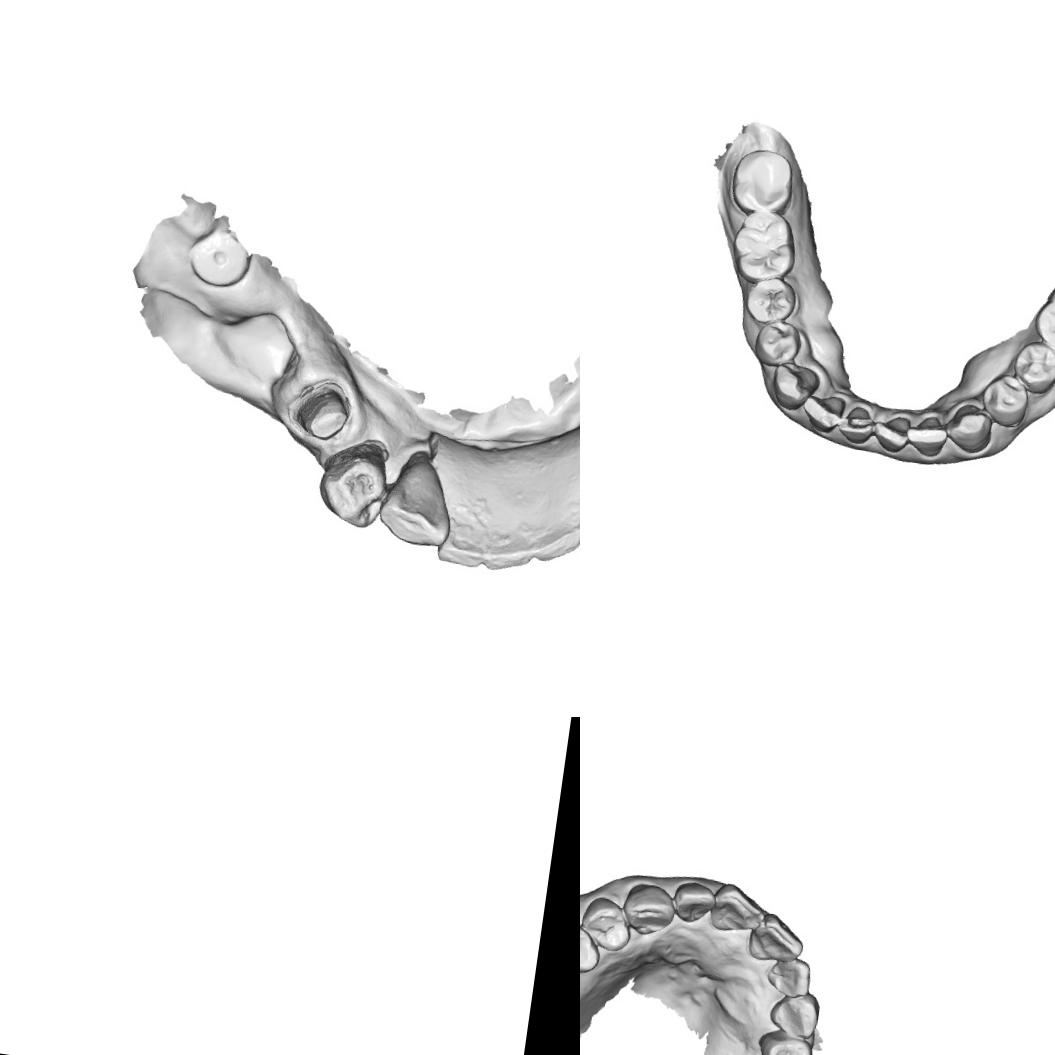canine: (372, 456, 461, 552), (619, 880, 679, 939), (940, 399, 996, 456), (768, 358, 823, 414), (766, 986, 822, 1041)
crown: (298, 376, 354, 446)
implant: (184, 224, 255, 294)
incisor: (708, 880, 770, 938), (746, 910, 808, 967), (476, 530, 541, 580), (435, 528, 497, 576), (528, 520, 580, 572), (670, 878, 720, 927), (764, 952, 814, 1000), (902, 411, 950, 460), (798, 390, 846, 436), (834, 403, 877, 447), (870, 411, 912, 456)
molar: (727, 208, 802, 289), (727, 146, 799, 218), (1029, 274, 1055, 365)
premolar: (310, 439, 392, 534), (976, 370, 1032, 431), (580, 894, 636, 954), (742, 273, 799, 328), (1009, 337, 1055, 397), (751, 318, 804, 370), (752, 1027, 817, 1055), (580, 919, 605, 976)
